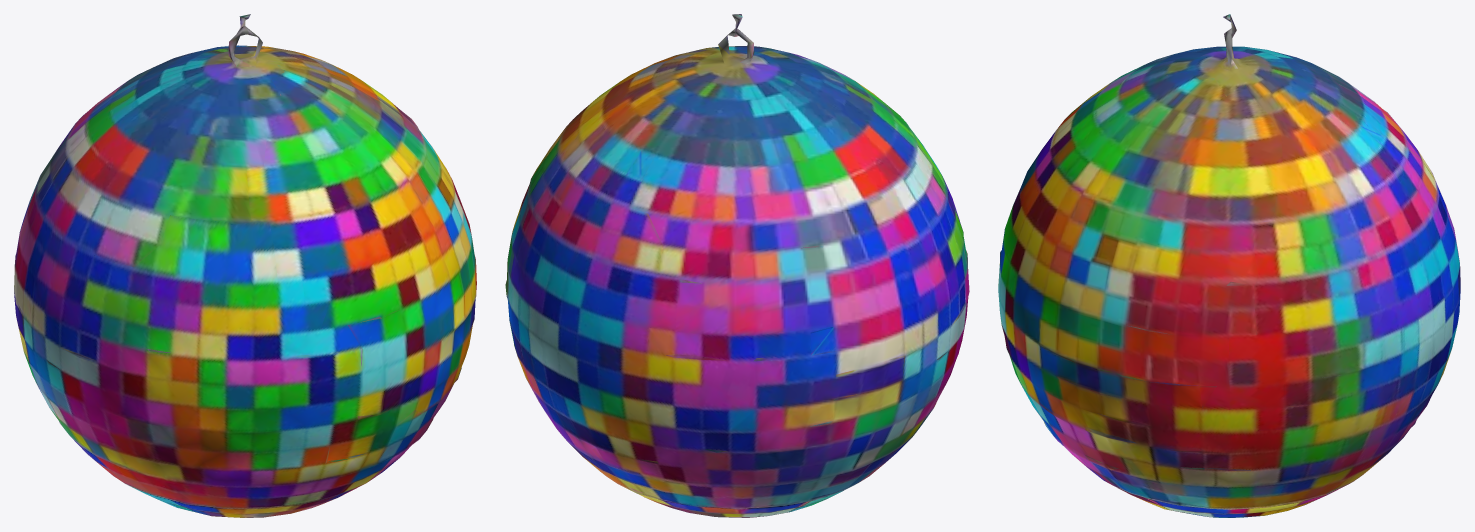
File: discoball.glb
The picture shows the model from 3 angles, left to right: view 1: azimuth 30°, elevation 25°; view 2: azimuth 150°, elevation 25°; view 3: azimuth 270°, elevation 25°; orthographic projection.
Visible parts, largest first — view 1: Mesh1.0; view 2: Mesh1.0; view 3: Mesh1.0.
Part boxes in pixels (x1,y1,x2,y2): Mesh1.0: (14, 14, 476, 517); Mesh1.0: (505, 14, 969, 517); Mesh1.0: (998, 14, 1460, 517).
Size of the model in its own units: 0.2603 by 0.3 by 0.2604.
Materials: 1 (1 with a texture image).
